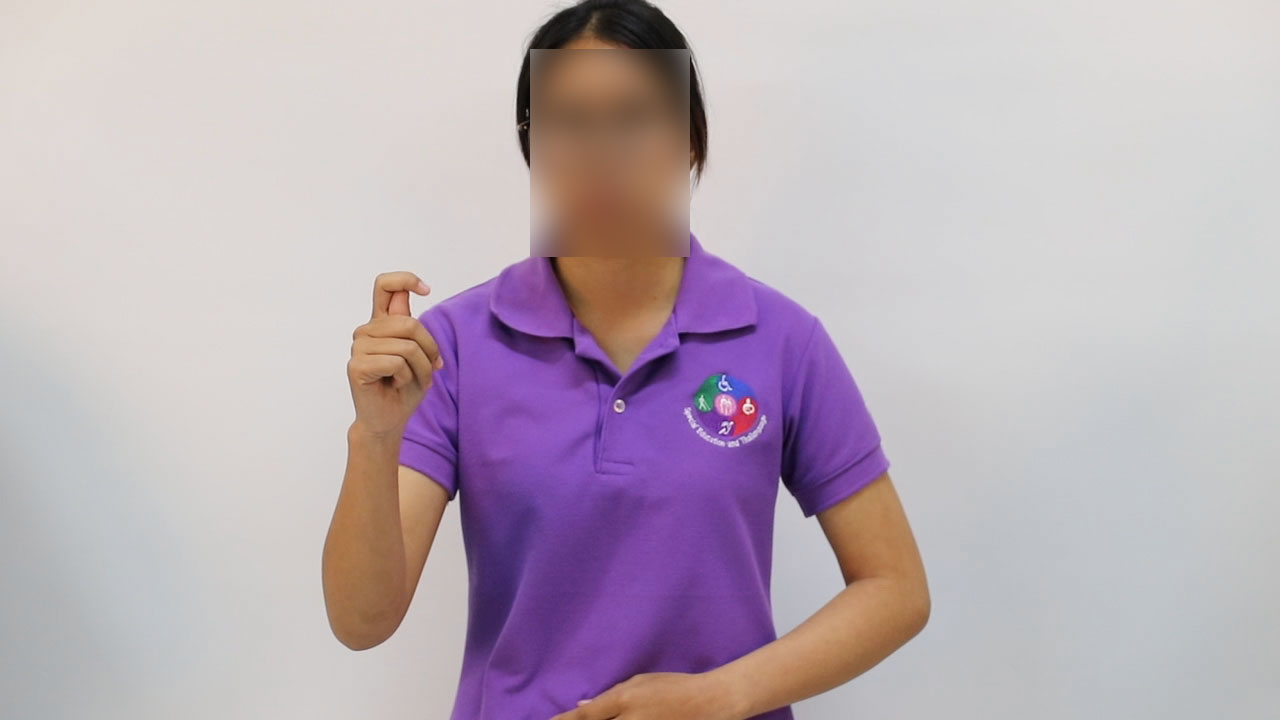or: (338, 265, 449, 456)
